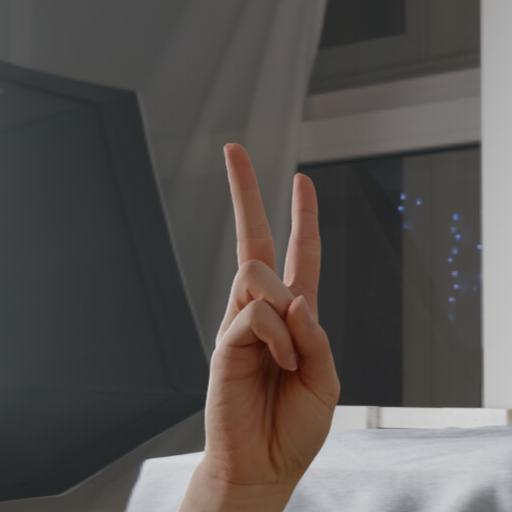V: (186, 137, 358, 512)
